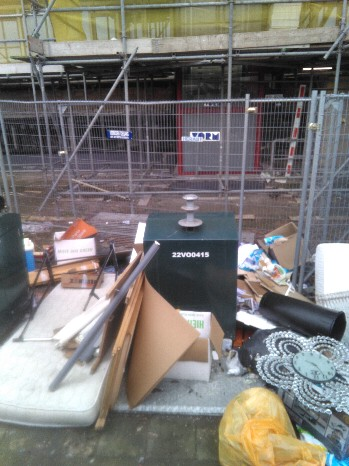Container: (156, 221, 246, 314)
Papier: (86, 272, 164, 360), (119, 302, 188, 377), (166, 318, 226, 377), (230, 255, 298, 294), (263, 227, 315, 274)
Rest: (205, 399, 320, 466), (240, 352, 349, 422), (253, 296, 337, 348), (55, 224, 111, 290), (319, 247, 349, 330)
